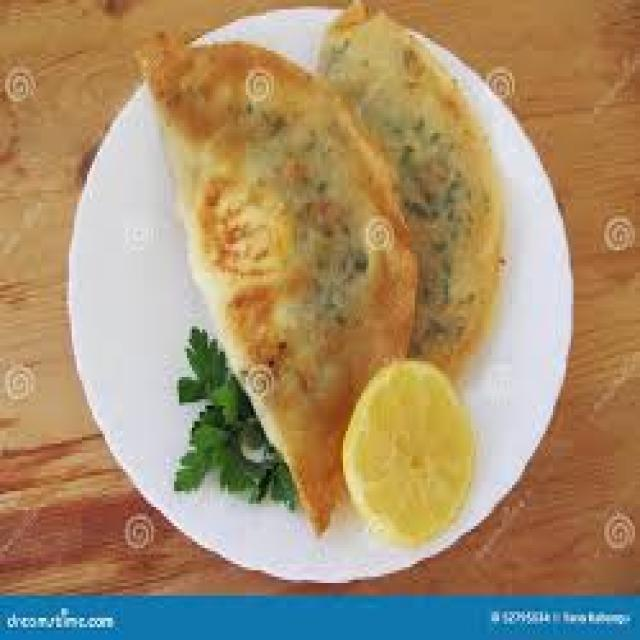brik: (174, 36, 406, 525), (364, 14, 526, 393)
